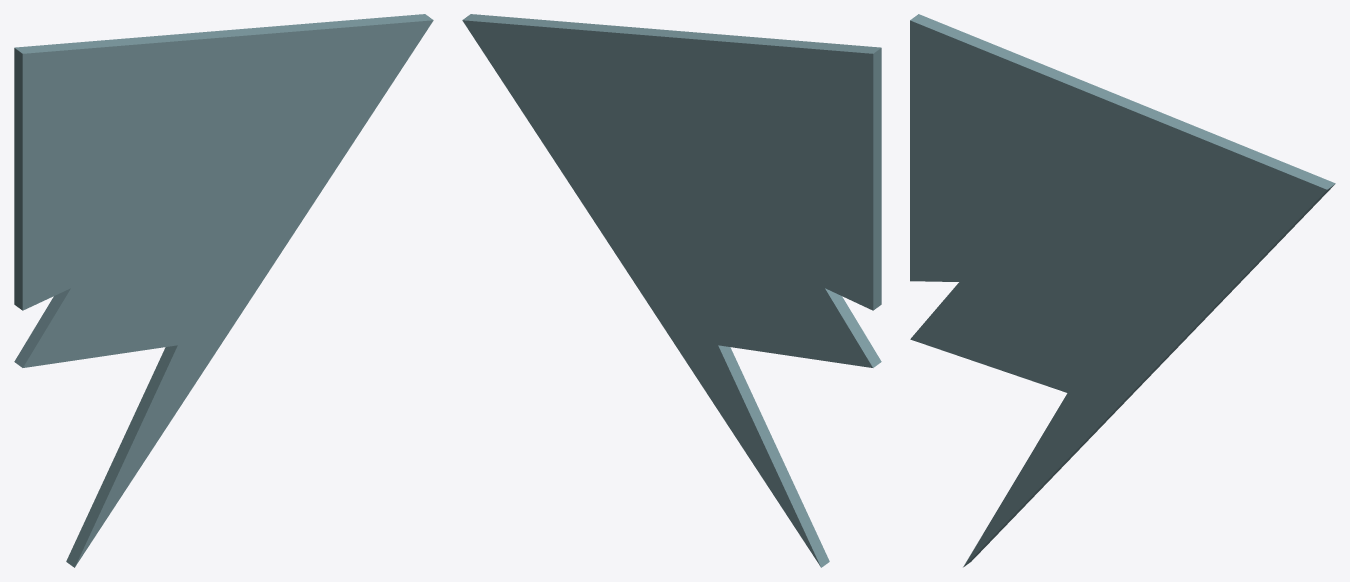
File: ocean_2.glb
The picture shows the model from 3 angles, left to right: view 1: azimuth 30°, elevation 25°; view 2: azimuth 150°, elevation 25°; view 3: azimuth 330°, elevation 25°; orthographic projection.
Parts seen in each view (by area): view 1: ocean_2; view 2: ocean_2; view 3: ocean_2.
Boxes of the visible parts, x1,y1,x2,y2 form: ocean_2: (14, 14, 433, 567); ocean_2: (462, 14, 881, 567); ocean_2: (910, 14, 1335, 567).
Size of the model in its own units: 8.32 by 10.19 by 0.3.
